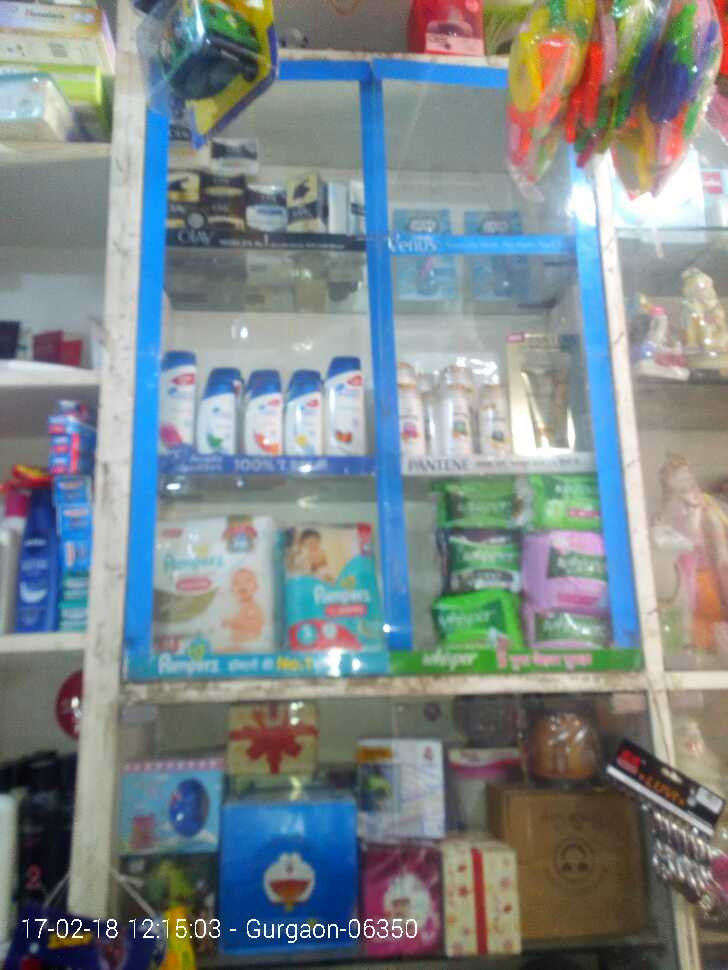venus: (474, 203, 527, 298), (400, 212, 451, 297)
